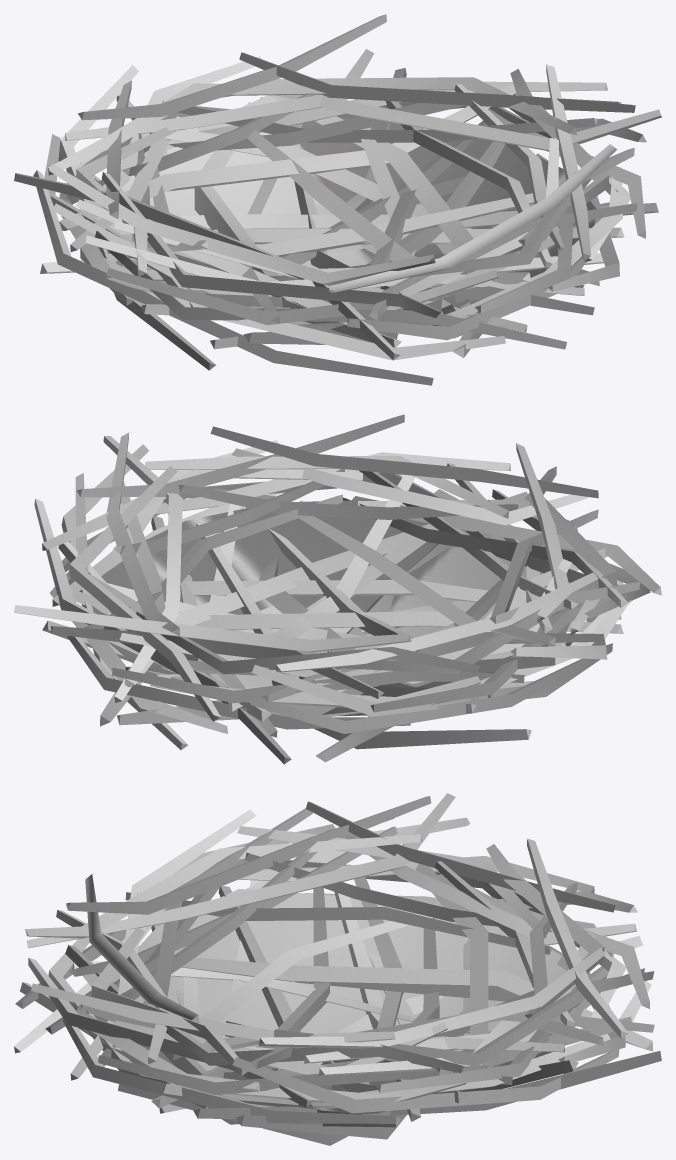
The model's file is Nest.fbx.
The picture shows the model from 3 angles, top to bottom: view 1: azimuth 30°, elevation 25°; view 2: azimuth 150°, elevation 25°; view 3: azimuth 270°, elevation 25°; orthographic projection.
Parts seen in each view (by area): view 1: Nest.001; view 2: Nest.001; view 3: Nest.001.
Part boxes in pixels (x1,y1,x2,y2): Nest.001: (14,14,661,385); Nest.001: (14,414,661,764); Nest.001: (14,793,661,1145).
Bounding box in the file's own units: 0.9579 × 0.2601 × 0.9488.
